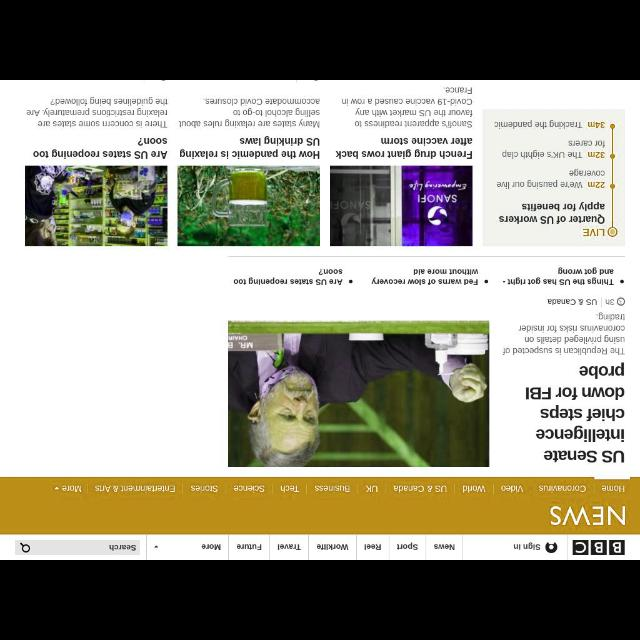icon: (545, 542, 557, 552), (20, 543, 30, 553), (617, 298, 625, 306), (54, 486, 60, 489), (154, 546, 158, 548)
image: (228, 320, 490, 468), (24, 166, 168, 247), (330, 166, 472, 247), (178, 166, 320, 247), (572, 539, 626, 555)
input: (15, 539, 140, 555)
multitab: (44, 476, 640, 496)
panel: (482, 110, 624, 246)
spinner: (146, 534, 228, 560), (51, 478, 88, 497)
text: (342, 87, 472, 129), (26, 95, 168, 128), (178, 98, 320, 128), (496, 168, 606, 190), (499, 202, 605, 224), (502, 140, 604, 158), (550, 506, 626, 526), (540, 404, 624, 422), (536, 426, 624, 442), (180, 149, 320, 159), (336, 149, 472, 159), (32, 149, 168, 159), (502, 346, 626, 356), (526, 388, 624, 400), (502, 276, 614, 286), (494, 119, 606, 129), (543, 451, 625, 464), (372, 276, 478, 286), (524, 334, 624, 344), (578, 362, 624, 380), (239, 136, 319, 146), (381, 138, 473, 146), (233, 278, 343, 284), (518, 326, 624, 332), (95, 486, 175, 492), (558, 267, 614, 275), (393, 485, 447, 493), (538, 484, 586, 492), (414, 269, 478, 275), (547, 299, 597, 305), (314, 485, 350, 493), (596, 312, 624, 322), (233, 485, 264, 493), (138, 137, 168, 145), (190, 485, 218, 493), (514, 542, 540, 550), (317, 544, 349, 550), (462, 485, 486, 493), (582, 228, 606, 236), (501, 485, 524, 493), (396, 543, 418, 551), (602, 485, 624, 493), (108, 545, 136, 551), (280, 485, 300, 493), (236, 544, 262, 550), (277, 544, 301, 550), (318, 269, 342, 275), (201, 544, 221, 550), (434, 544, 454, 550), (62, 486, 82, 492), (364, 544, 381, 550), (366, 486, 378, 492), (606, 298, 614, 306)
textbutton: (308, 534, 356, 560), (228, 534, 270, 560), (426, 534, 464, 560), (270, 534, 308, 560), (390, 534, 426, 560), (357, 534, 389, 560)
toolbar: (1, 534, 640, 560)
